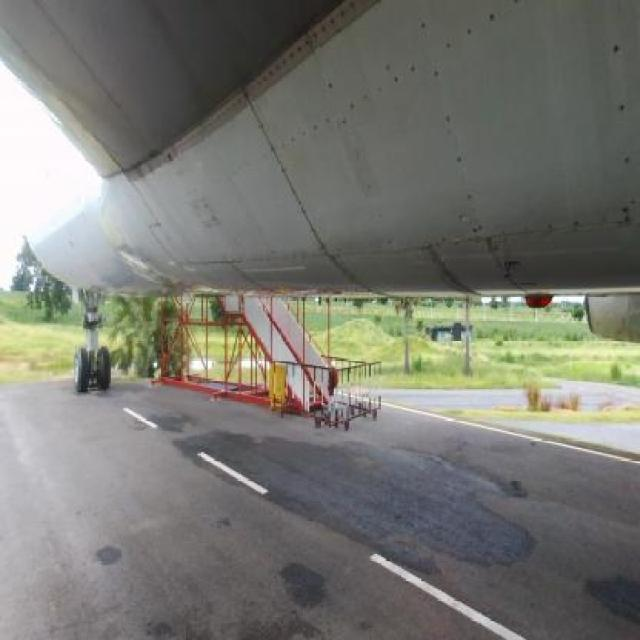Missing-Rivet: (419, 22, 487, 235), (604, 27, 639, 215), (344, 65, 428, 123), (487, 216, 628, 250), (276, 120, 341, 155)
